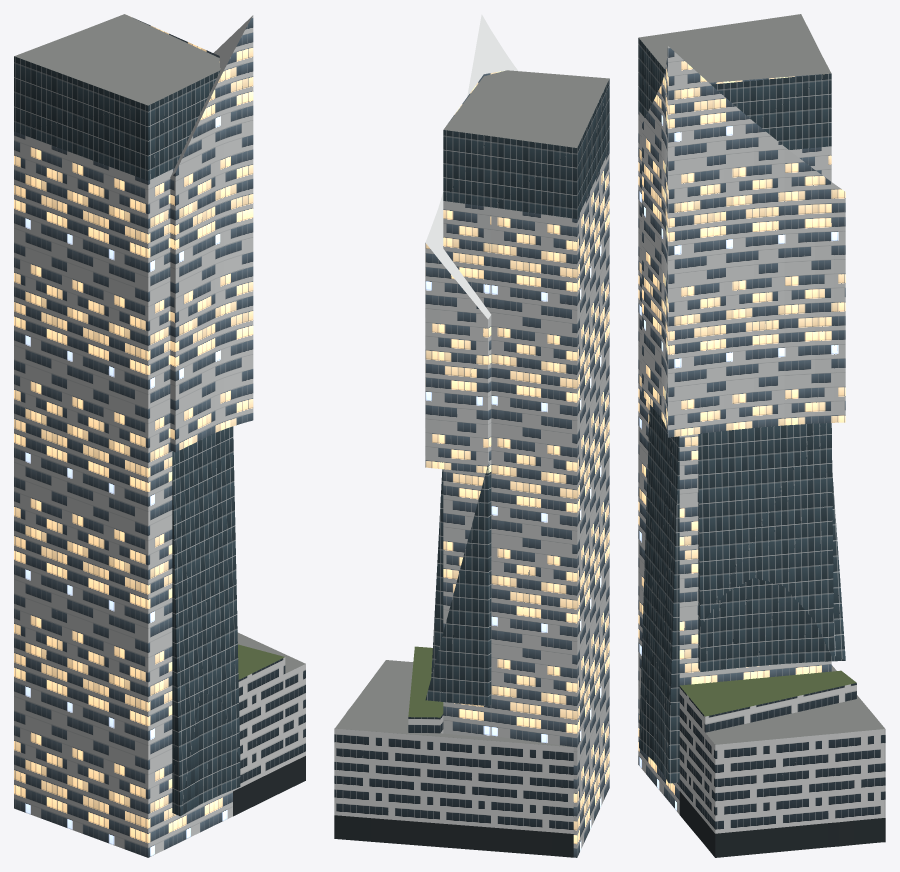
The model's file is zlota44.glb.
The picture shows the model from 3 angles, left to right: view 1: azimuth 30°, elevation 25°; view 2: azimuth 150°, elevation 25°; view 3: azimuth 270°, elevation 25°; orthographic projection. The views are drawn at different scales.
Visible parts, largest first — view 1: zlota44; view 2: zlota44; view 3: zlota44.
Part boxes in pixels (left/top/right/bottom): zlota44: left=14, top=14, right=305, bottom=857; zlota44: left=334, top=14, right=609, bottom=857; zlota44: left=638, top=14, right=885, bottom=857.
Bounding box in the file's own units: 61.9 × 192 × 55.4.
7 materials, 3 textured.
